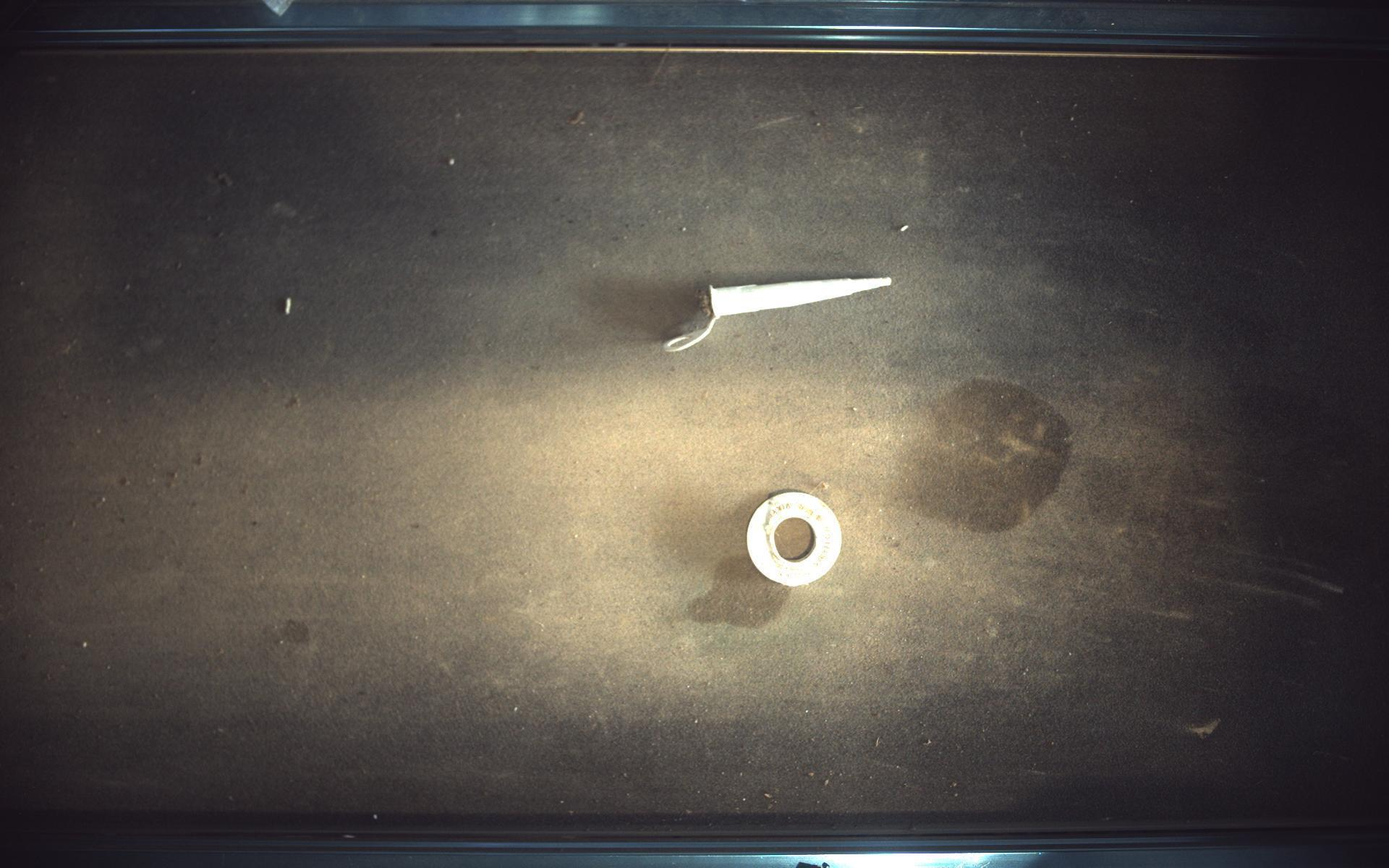plastic: (664, 276, 893, 352), (748, 492, 843, 587)
